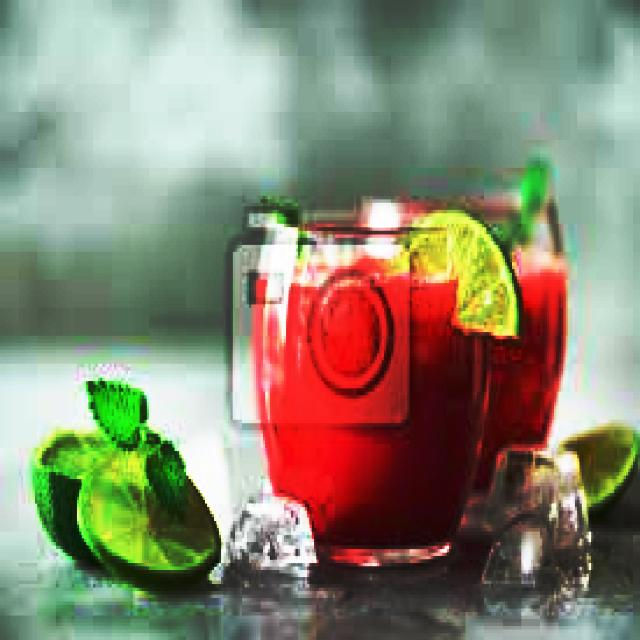drink: (251, 210, 489, 580)
